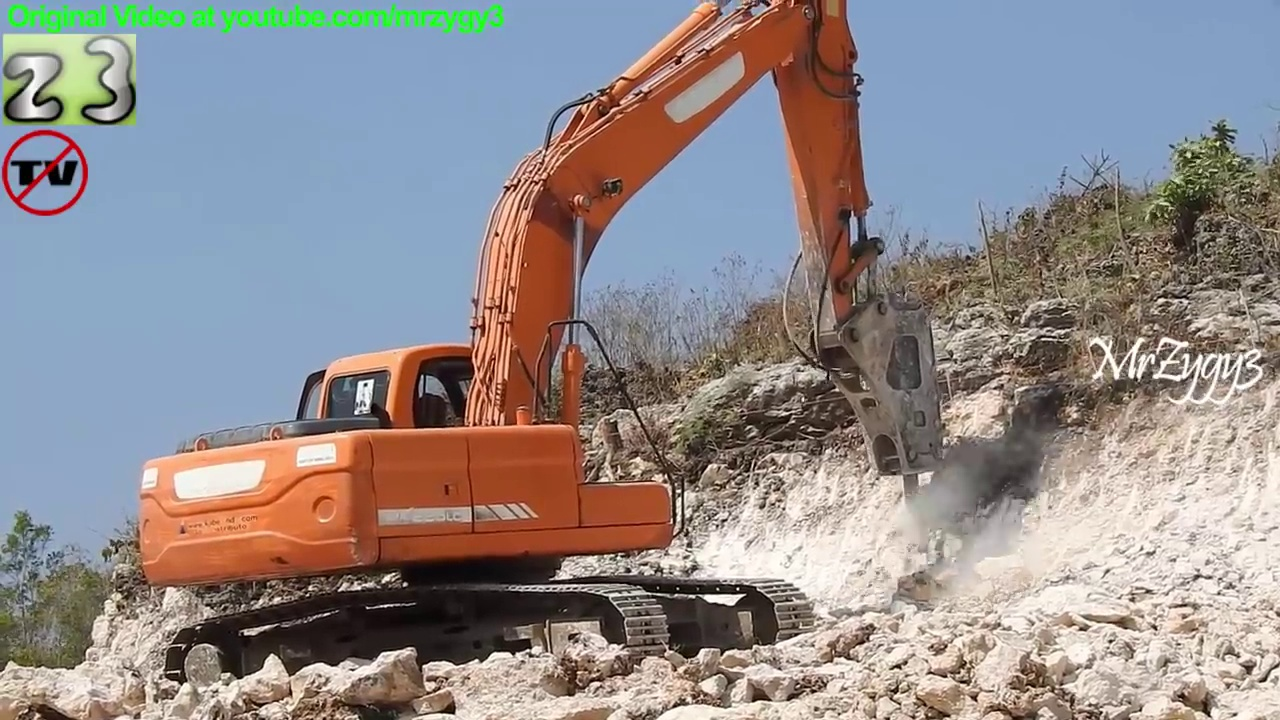excavator breaker: (131, 1, 950, 698)
